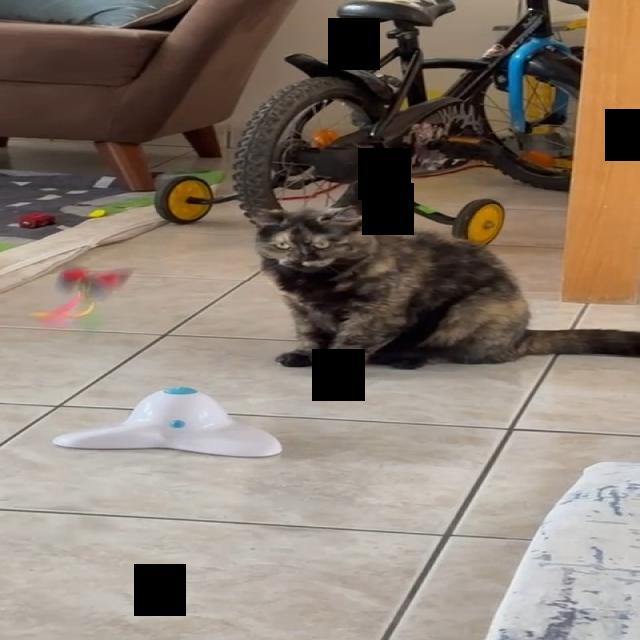authorized: (249, 205, 639, 378)
